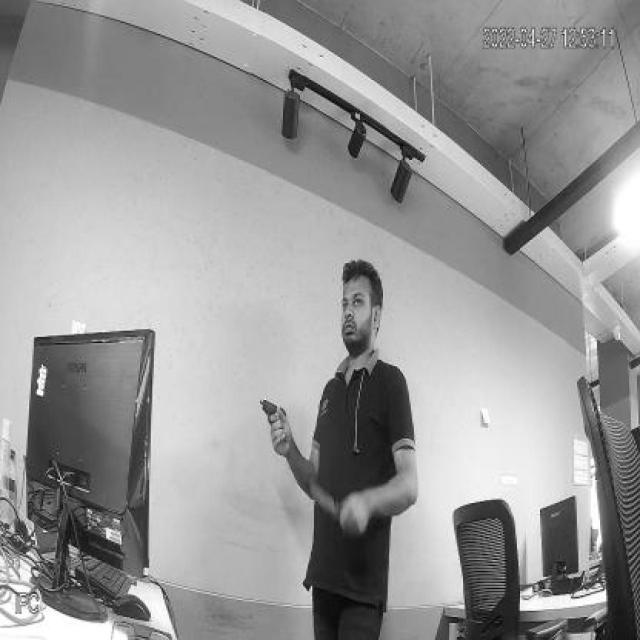weapon: (256, 397, 290, 443)
